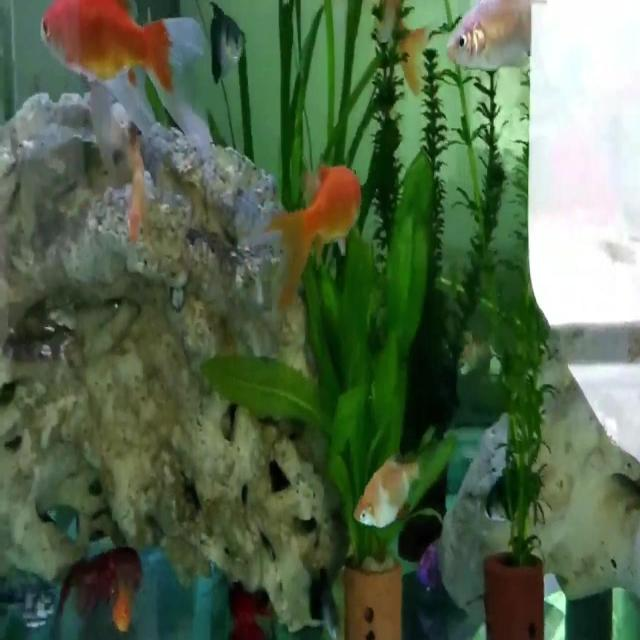GoldFish: (36, 0, 215, 152), (264, 145, 372, 322)
